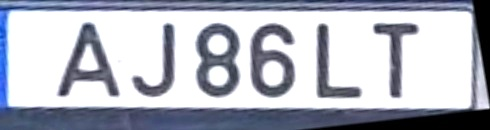6: (249, 22, 300, 101)
8: (193, 21, 245, 100)
A: (52, 20, 125, 100)
J: (131, 22, 179, 99)
L: (315, 22, 366, 100)
T: (371, 22, 423, 101)
